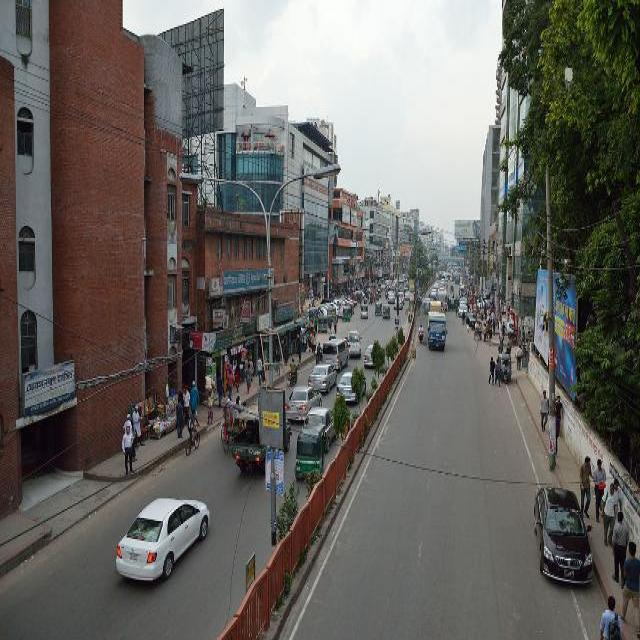bike: (184, 422, 205, 458), (288, 362, 302, 385), (417, 328, 426, 344), (314, 353, 321, 362)
vehicle: (114, 493, 210, 584), (534, 482, 594, 583), (294, 421, 329, 483), (231, 414, 259, 491), (337, 370, 368, 402), (286, 385, 322, 411), (427, 312, 447, 351), (322, 338, 350, 364), (308, 363, 337, 384), (498, 351, 513, 384), (223, 409, 232, 454), (311, 405, 335, 421), (350, 329, 362, 358), (363, 342, 375, 369), (318, 314, 329, 334), (342, 305, 353, 323), (360, 302, 370, 319), (375, 299, 383, 316), (383, 302, 391, 319), (458, 302, 467, 316), (437, 290, 448, 301), (394, 297, 404, 309), (430, 301, 441, 311), (470, 309, 476, 327), (450, 296, 457, 311), (387, 292, 395, 302), (405, 290, 410, 301), (455, 275, 461, 284), (433, 281, 439, 289), (422, 296, 431, 301)
